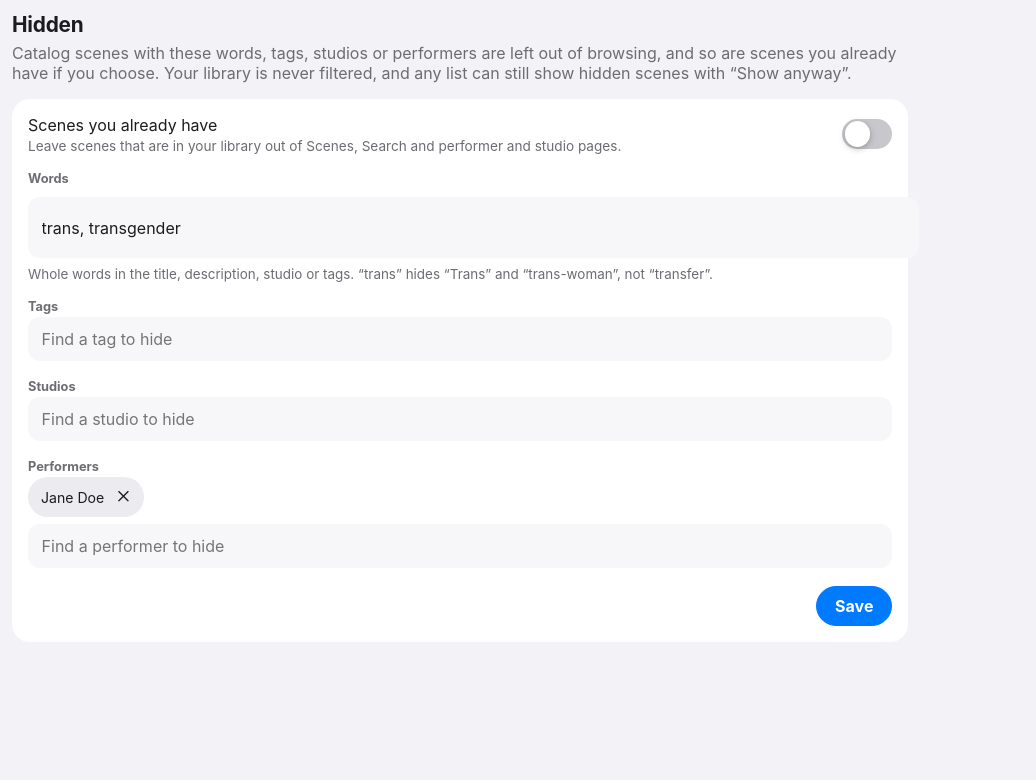
Test: SettingsHiddenPageComponent › offers a studio’s sub-studios too, and removes a chosen one
Type "par" into the search field with placeholder "Find a studio to hide" at (460,419), box [28, 397, 892, 441]
Wait 400 ms
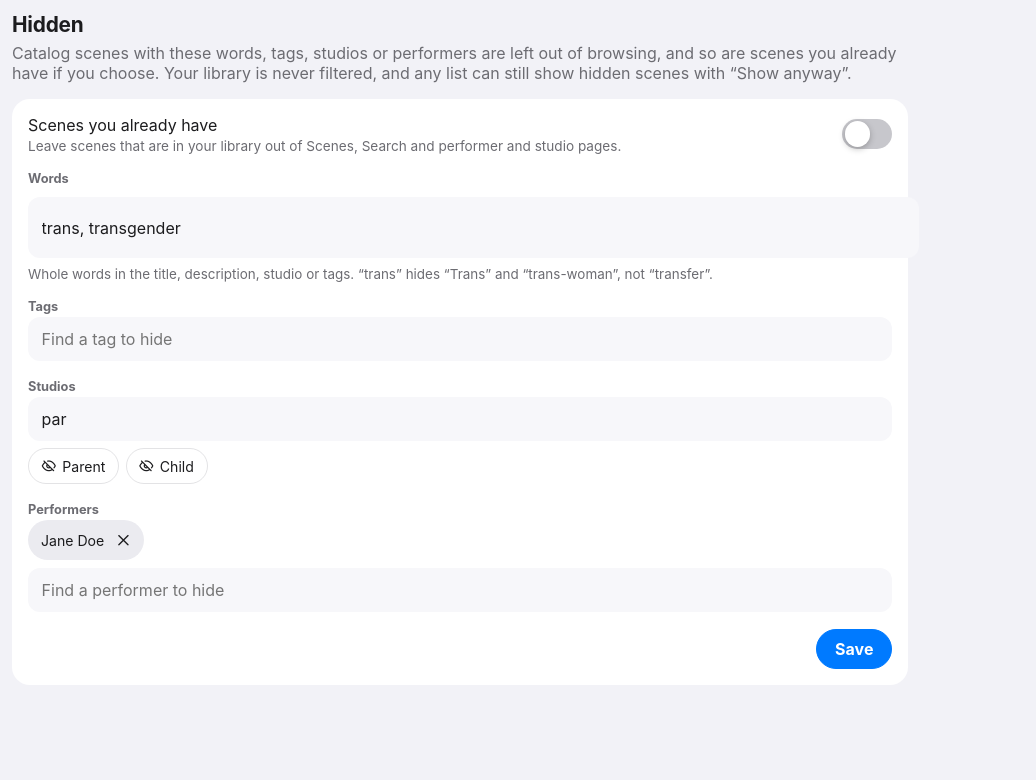
Click the button with class "suggestion" showing "Child" at (167,466), box [126, 448, 208, 484]
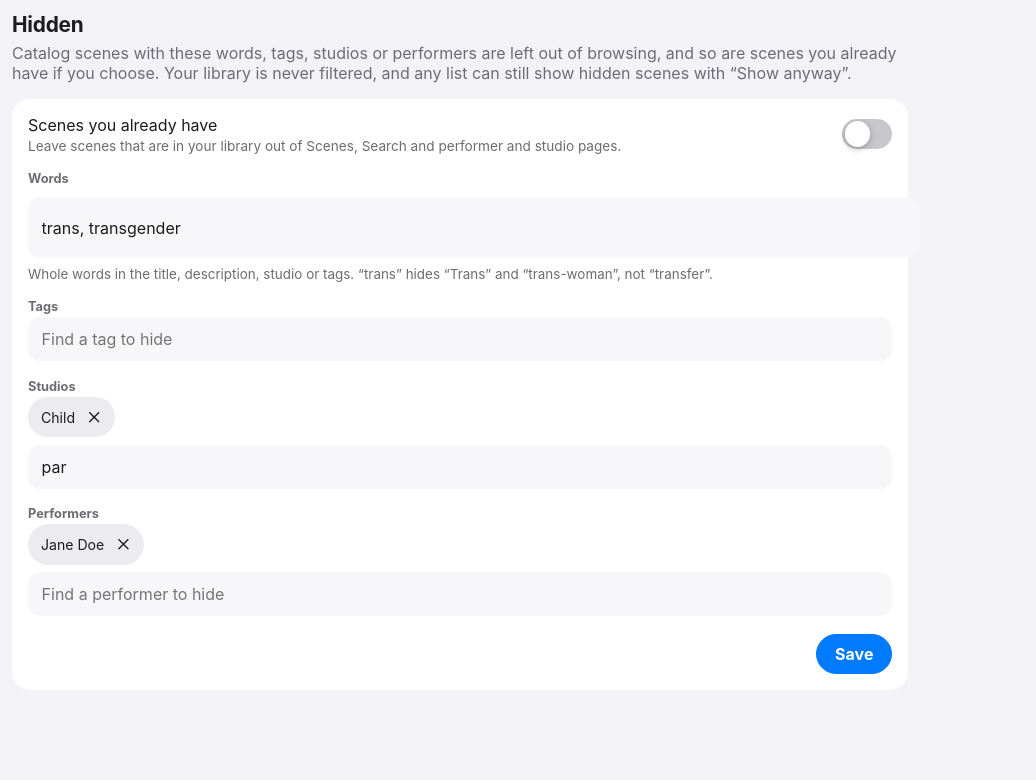
Expected: the text "Child" is shown, [41, 409, 75, 426]
Click the 1st button with class "chip-remove" at (94,417), box [79, 402, 110, 432]
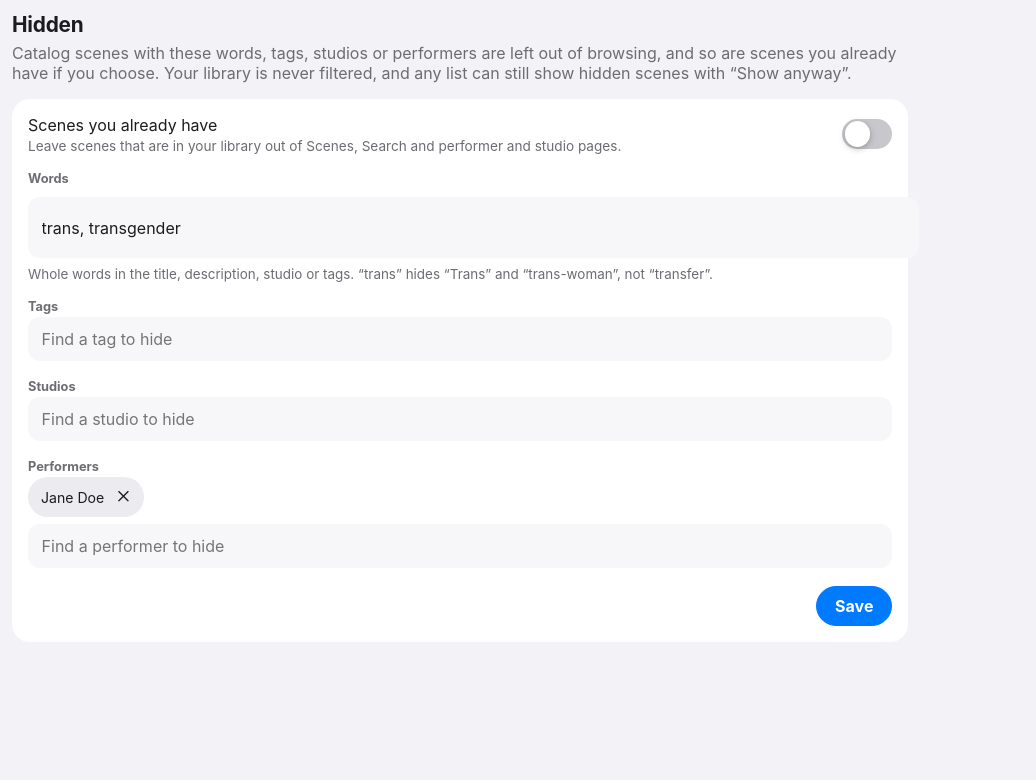
Expected: the list "Child" is gone
